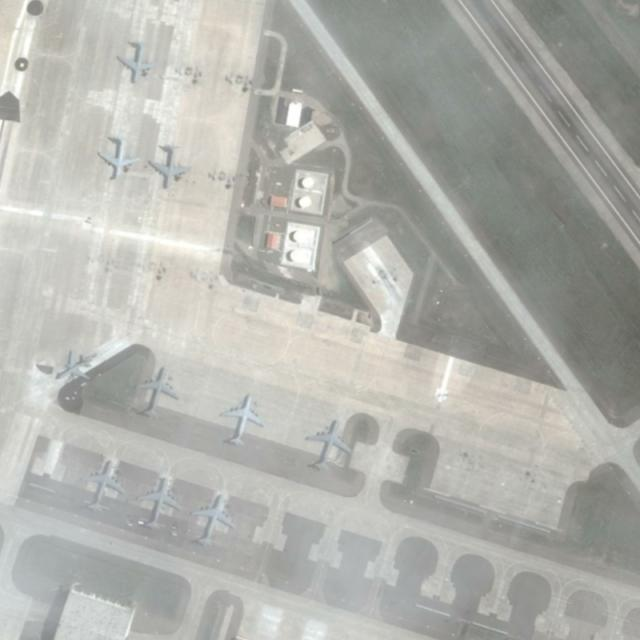fighter jet: (138, 472, 180, 534), (221, 392, 264, 448), (306, 417, 349, 472), (192, 492, 231, 546), (138, 368, 180, 418), (83, 458, 120, 514), (101, 134, 136, 181), (153, 142, 188, 188), (118, 39, 154, 83), (58, 352, 96, 384)
